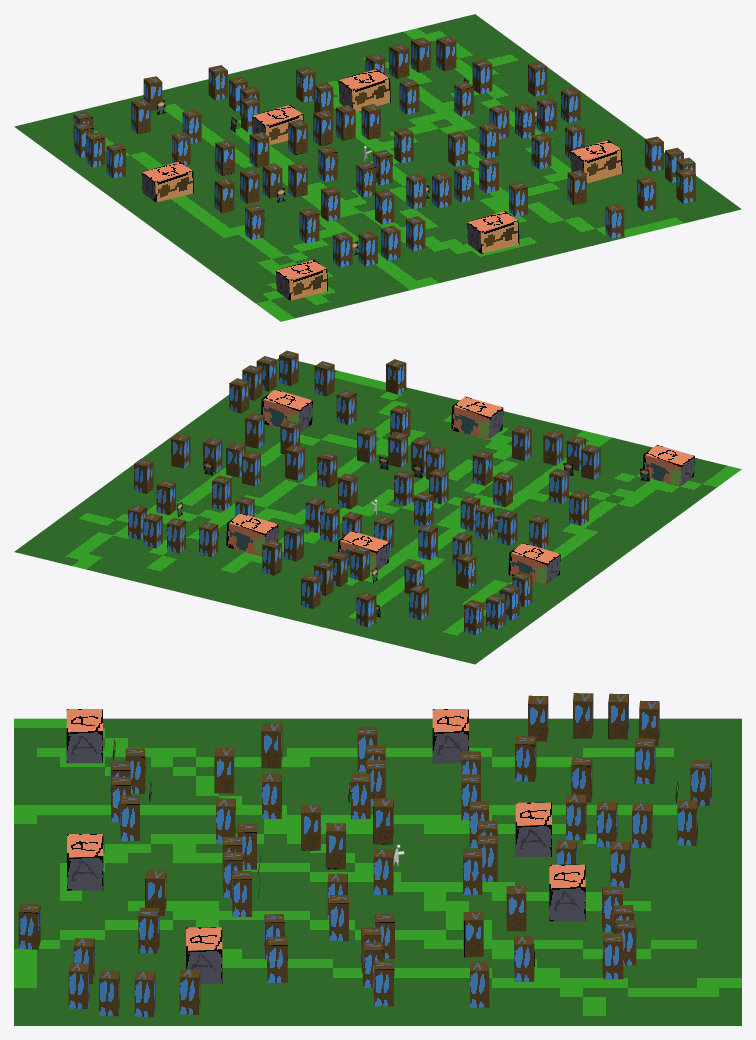
File: BONECO.glb
3 renders of one model, top to bottom at view 1: azimuth 30°, elevation 25°; view 2: azimuth 150°, elevation 25°; view 3: azimuth 270°, elevation 25°, orthographic. The views are drawn at different scales.
Visible parts, largest first — view 1: TERRA, ROUPAS, ROUPAS.001, ROUPAS.005, ROUPAS.003, ROUPAS.002, ROUPAS.004, PREDIO.014, PREDIO.042, PREDIO.055, PREDIO.051, PREDIO.018 (+51 smaller); view 2: TERRA, ROUPAS, ROUPAS.001, ROUPAS.003, ROUPAS.005, ROUPAS.002, ROUPAS.004, PREDIO.011, PREDIO.027, PREDIO.023, PREDIO.041, PREDIO.061 (+53 smaller); view 3: TERRA, ROUPAS.001, ROUPAS, ROUPAS.003, ROUPAS.004, ROUPAS.002, ROUPAS.005, PREDIO.058, PREDIO.053, PREDIO.060, PREDIO.040, PREDIO.041 (+50 smaller).
Part boxes in pixels (x1=…): TERRA: x1=14, y1=14, x2=741, y2=321; ROUPAS: x1=467, y1=211, x2=519, y2=253; ROUPAS.001: x1=338, y1=69, x2=390, y2=111; ROUPAS.005: x1=570, y1=140, x2=622, y2=183; ROUPAS.003: x1=276, y1=259, x2=328, y2=300; ROUPAS.002: x1=141, y1=161, x2=193, y2=202; ROUPAS.004: x1=252, y1=105, x2=303, y2=145; PREDIO.014: x1=249, y1=132, x2=269, y2=167; PREDIO.042: x1=531, y1=133, x2=551, y2=169; PREDIO.055: x1=399, y1=79, x2=419, y2=114; PREDIO.051: x1=389, y1=43, x2=409, y2=78; PREDIO.018: x1=214, y1=178, x2=234, y2=213; TERRA: x1=14, y1=358, x2=741, y2=664; ROUPAS: x1=451, y1=396, x2=503, y2=439; ROUPAS.001: x1=226, y1=513, x2=278, y2=556; ROUPAS.003: x1=643, y1=445, x2=694, y2=485; ROUPAS.005: x1=261, y1=389, x2=312, y2=432; ROUPAS.002: x1=508, y1=543, x2=560, y2=584; ROUPAS.004: x1=338, y1=531, x2=389, y2=571; PREDIO.011: x1=317, y1=452, x2=337, y2=487; PREDIO.027: x1=472, y1=450, x2=492, y2=485; PREDIO.023: x1=543, y1=430, x2=563, y2=465; PREDIO.041: x1=456, y1=553, x2=476, y2=588; PREDIO.061: x1=229, y1=378, x2=249, y2=413; TERRA: x1=14, y1=718, x2=741, y2=1025; ROUPAS.001: x1=549, y1=864, x2=585, y2=921; ROUPAS: x1=67, y1=834, x2=103, y2=890; ROUPAS.003: x1=66, y1=709, x2=102, y2=763; ROUPAS.004: x1=515, y1=802, x2=551, y2=856; ROUPAS.002: x1=432, y1=709, x2=468, y2=763; ROUPAS.005: x1=186, y1=927, x2=222, y2=983; PREDIO.058: x1=18, y1=903, x2=40, y2=949; PREDIO.053: x1=602, y1=933, x2=623, y2=979; PREDIO.060: x1=134, y1=971, x2=155, y2=1017; PREDIO.040: x1=634, y1=738, x2=655, y2=784; PREDIO.041: x1=515, y1=735, x2=536, y2=781.
Size of the model in its own units: 358 by 23.95 by 359.
Materials: 5 (4 with a texture image).
